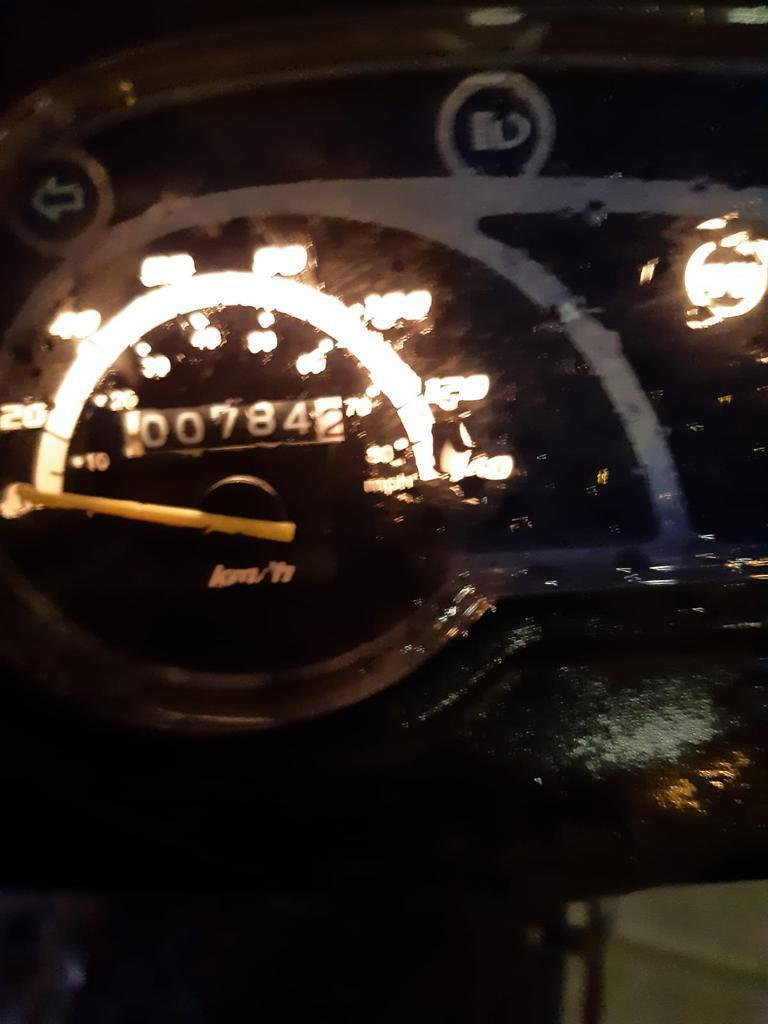0: (138, 412, 169, 448), (174, 410, 205, 446)
2: (319, 406, 344, 437)
4: (282, 399, 312, 436)
7: (207, 404, 239, 440)
8: (243, 401, 276, 437)
odometer: (117, 390, 351, 461)
